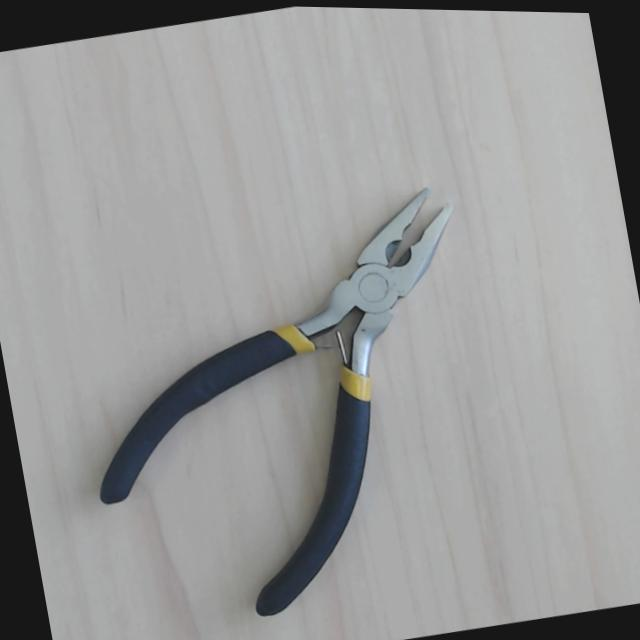Tang-Jepit-Hitam: (84, 134, 541, 631)
